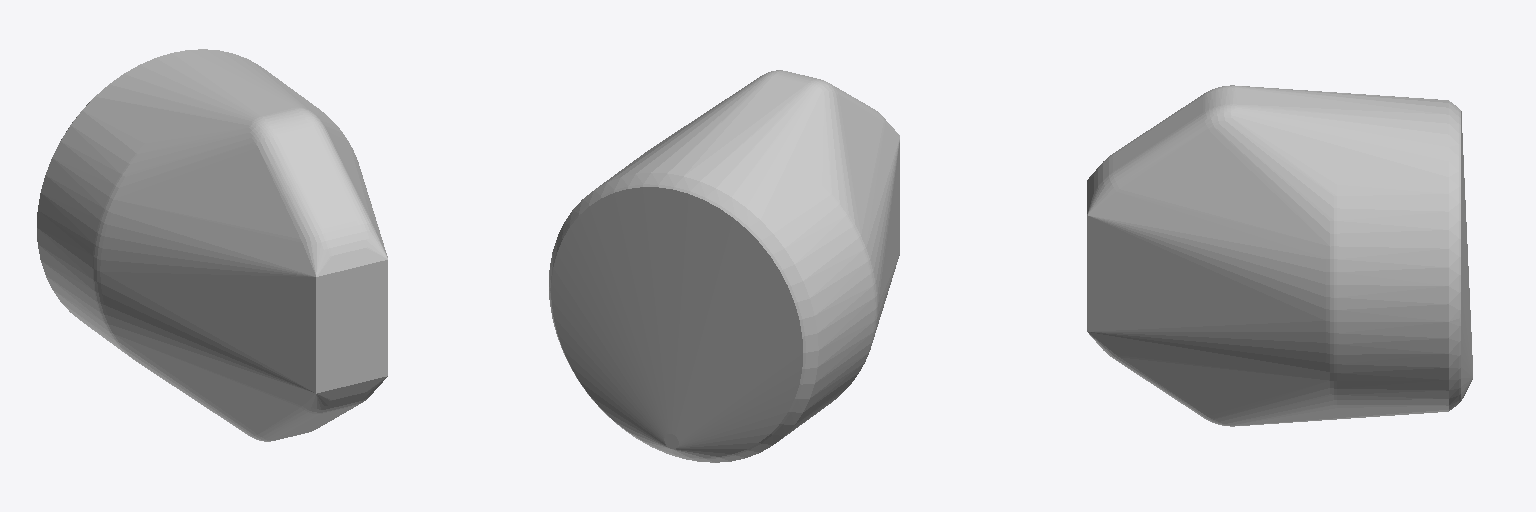
Rendered from robotiq_arg2f_85_base_link.obj.
3 renders of one model, left to right at view 1: azimuth 30°, elevation 25°; view 2: azimuth 150°, elevation 25°; view 3: azimuth 270°, elevation 25°, orthographic.
Size of the model in its own units: 0.075 by 0.0849 by 0.0927.